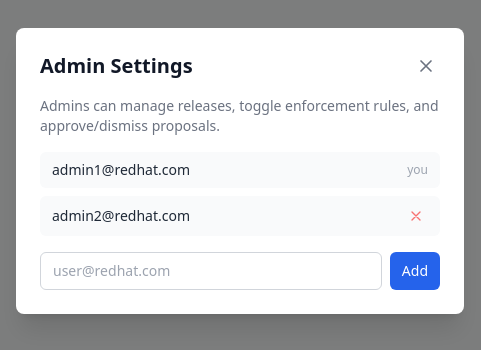
Test: AdminSettingsModal › shows validation error for non @redhat.com email
Type "user@gmail.com" into the field with test id "new-admin-input" at point(211, 271), box [40,252,382,290]
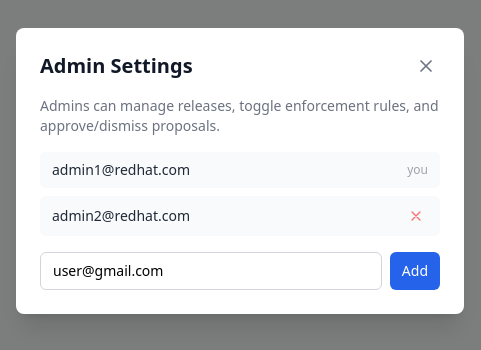
Click the button with test id "add-admin-btn" at point(415, 271), box [390,252,440,290]
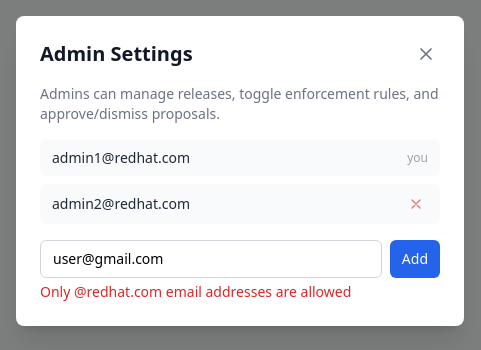
Expected: the text "Only @redhat.com email addresses are allowed" is shown, [40,282,351,301]
